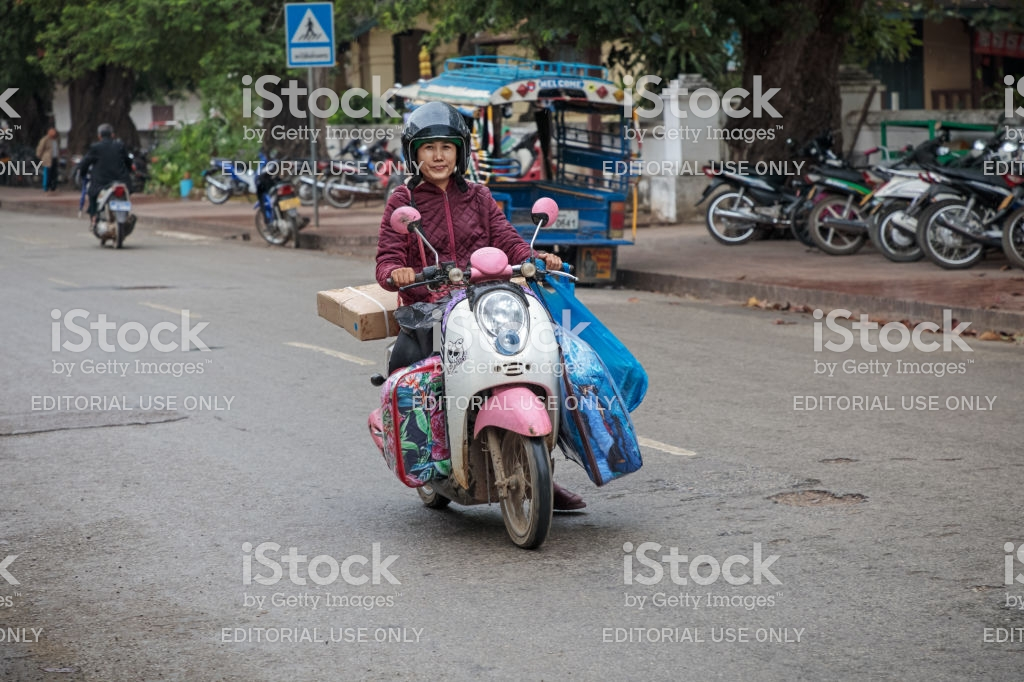helmet: (388, 102, 483, 177)
